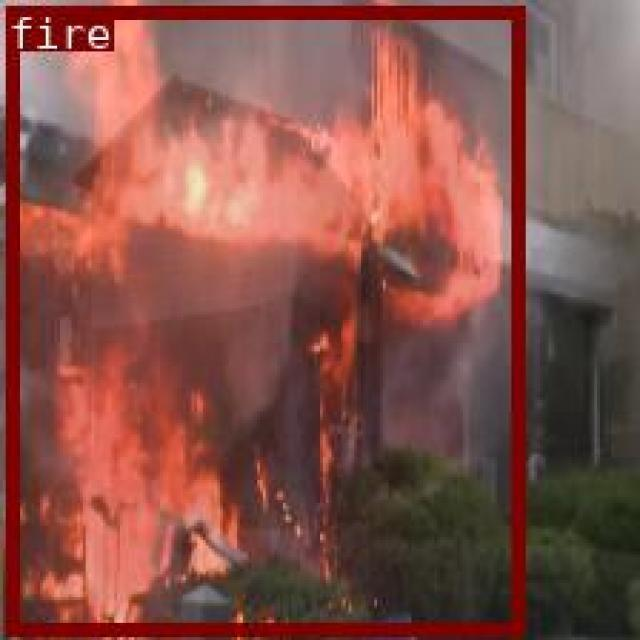fire: (5, 3, 522, 633)
